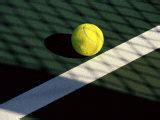tennis_ball: (71, 23, 105, 57)
